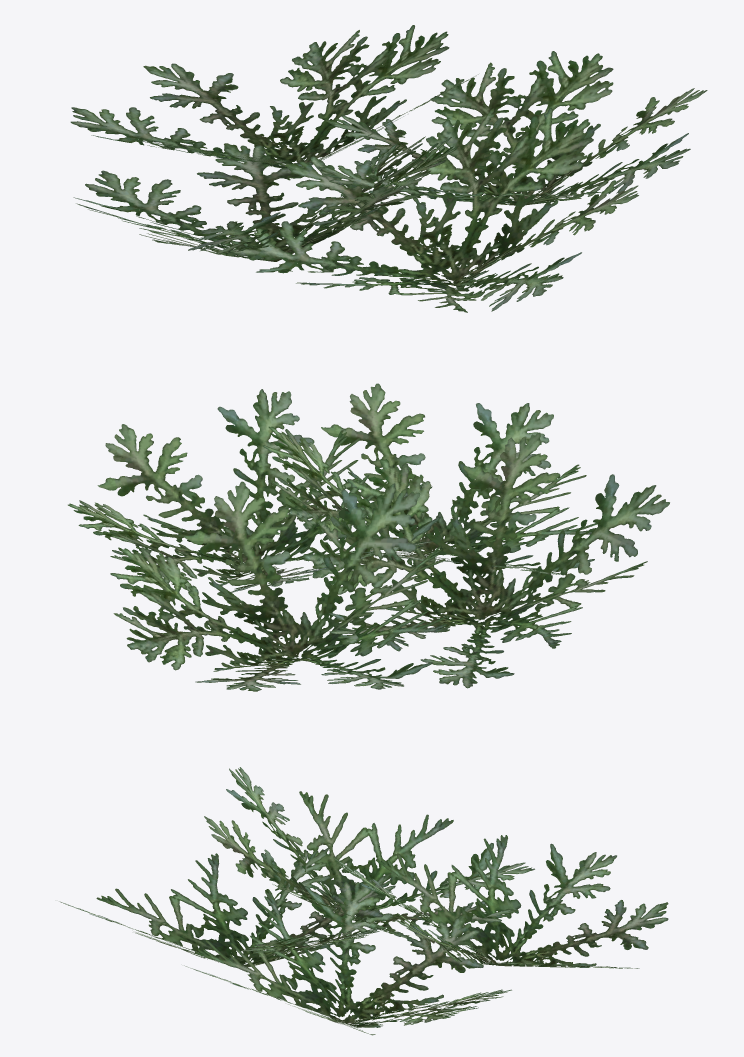
File: ptch_groundleafs_sm_l0.fbx
3 views of the same model, one above another, from view 1: azimuth 30°, elevation 25°; view 2: azimuth 150°, elevation 25°; view 3: azimuth 270°, elevation 25° (orthographic). The views are drawn at different scales.
Visible parts, largest first — view 1: mesh_node; view 2: mesh_node; view 3: mesh_node.
Boxes of the visible parts, left/top/right/bottom form: mesh_node: left=70, top=25, right=707, bottom=312; mesh_node: left=68, top=383, right=669, bottom=691; mesh_node: left=59, top=767, right=668, bottom=1035.
Bounding box in the file's own units: 1.03 × 0.2164 × 1.1.
